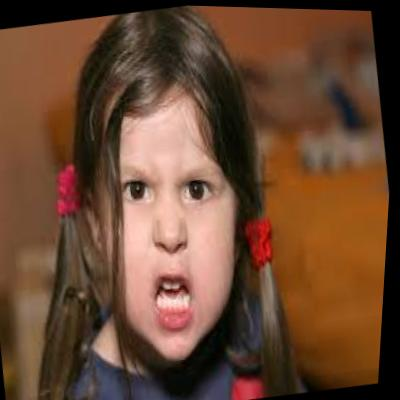angry: (64, 31, 270, 367)
